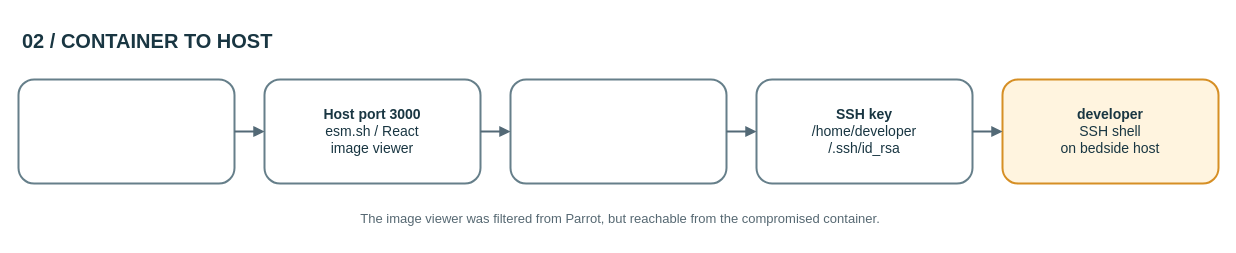
Image size: 1236x253. Some labels were removed from this diagram. Each missing label, with the centre of its shape:
"datawrangler Container shell /app" belongs at (x=126, y=131).
"Path traversal --path-as-is /../../etc/hostname" belongs at (x=618, y=131).
